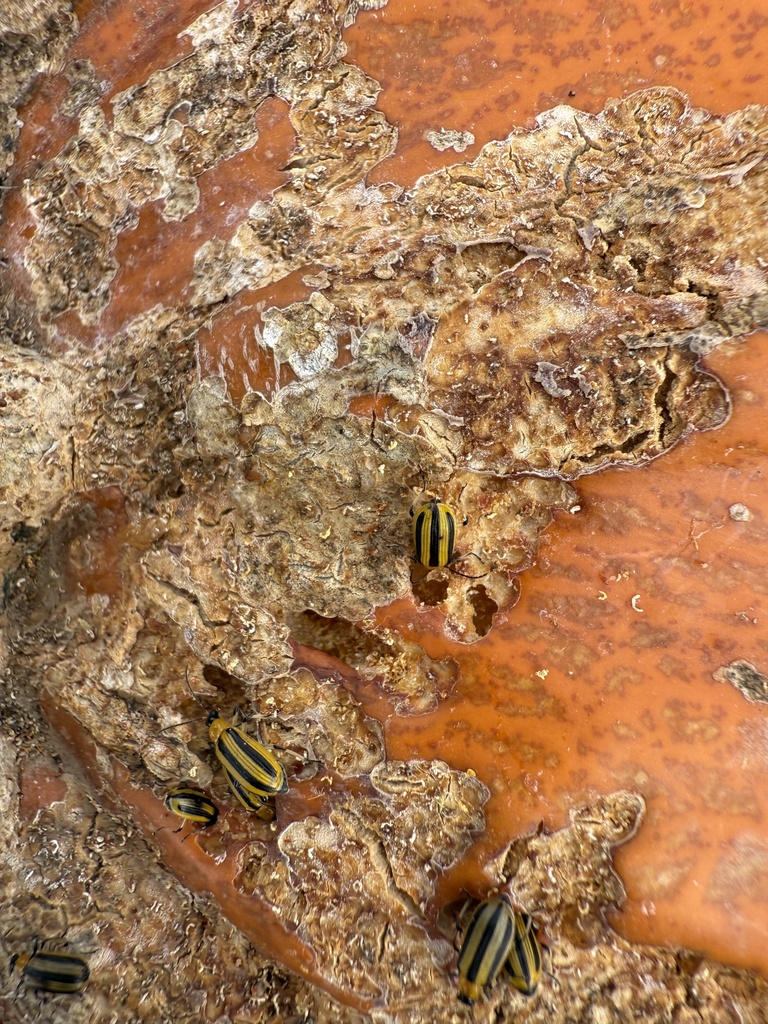potato_beetle: (416, 828, 594, 1024), (175, 665, 328, 859), (374, 448, 510, 625)
